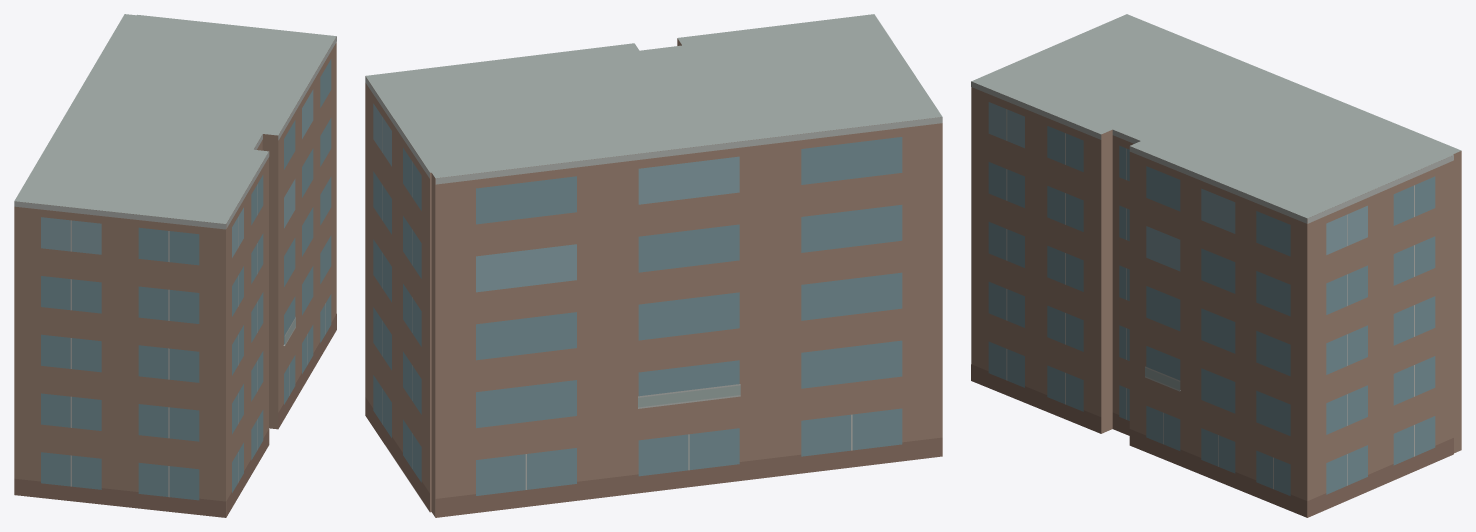
Rendered from survey-upis-32889545.glb.
The picture shows the model from 3 angles, left to right: view 1: azimuth 30°, elevation 25°; view 2: azimuth 150°, elevation 25°; view 3: azimuth 270°, elevation 25°; orthographic projection. The views are drawn at different scales.
Visible parts, largest first — view 1: survey-upis-32889545.tmp; view 2: survey-upis-32889545.tmp; view 3: survey-upis-32889545.tmp.
Part boxes in pixels (<box>): survey-upis-32889545.tmp: <box>14,14,336,517</box>; survey-upis-32889545.tmp: <box>365,14,942,517</box>; survey-upis-32889545.tmp: <box>971,14,1461,517</box>.
Size of the model in its own units: 19.33 by 13.2 by 19.61.
